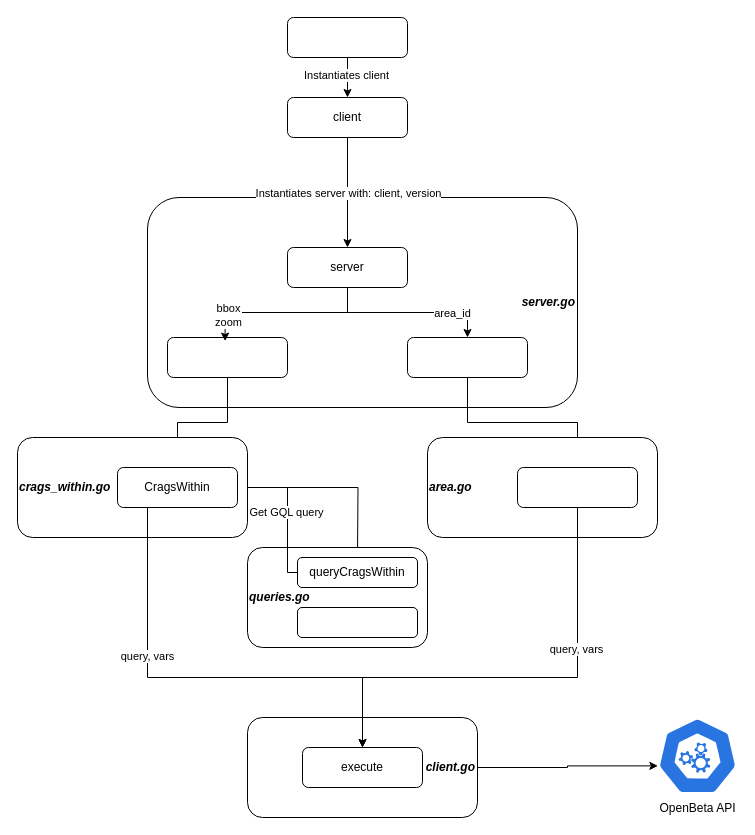
This 755x835 diagram has some shape labels left out. Each missing label, with the centre of its shape:
"crags_within" goes at [227,357].
"get_area_details" goes at [467,357].
"GetArea" goes at [577,487].
"main.go" goes at [347,37].
"queryArea" goes at [357,622].
